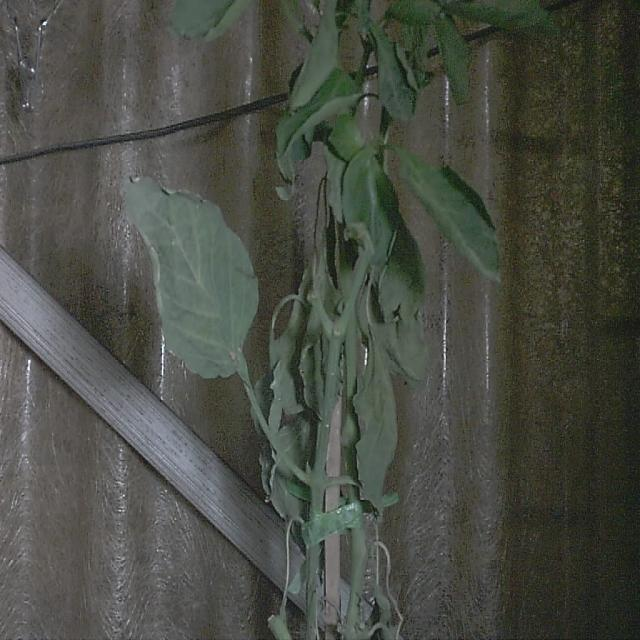Leaf: (119, 173, 261, 379), (399, 148, 502, 282), (352, 340, 398, 516)
